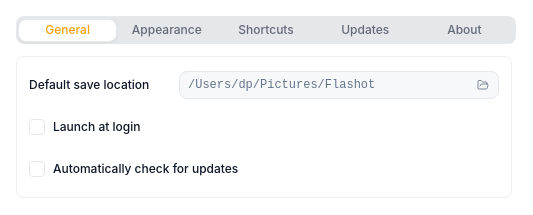
Test case: SettingsRoute › shows and changes the default screenshot save location
Expected: the field showing "/Users/dp/Pictures/Flashot" is disabled, [179,71,499,99]
Click the button named "Change default save location": (483, 85) [471,73,495,97]
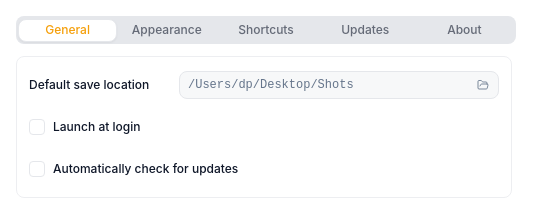
Expected: the field showing "/Users/dp/Desktop/Shots" is shown, [179,71,499,99]
